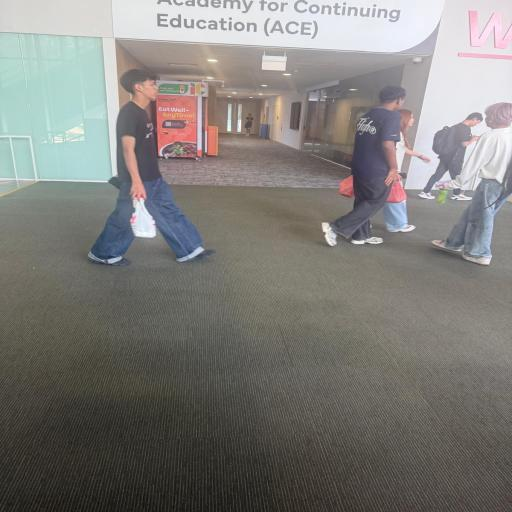person_left: (244, 113, 254, 136)
person_right: (88, 68, 216, 266), (320, 86, 408, 246), (320, 86, 406, 246), (382, 108, 430, 234), (418, 112, 484, 202)
